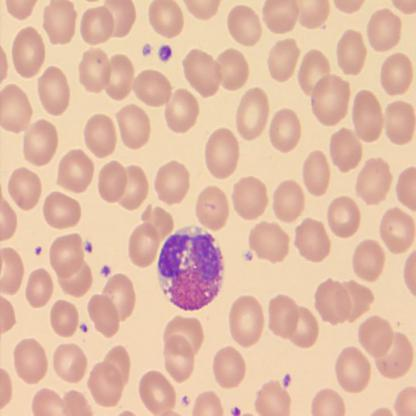Eosinophil: (157, 226, 224, 310)
